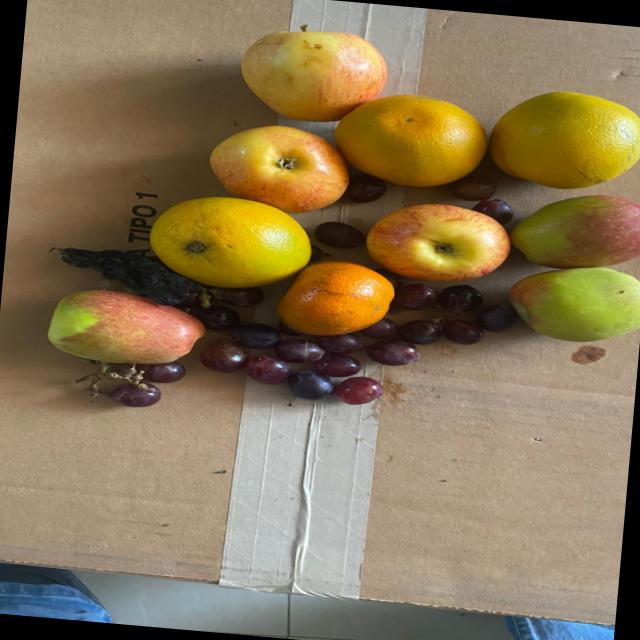bolsa_negra: (54, 236, 196, 306)
